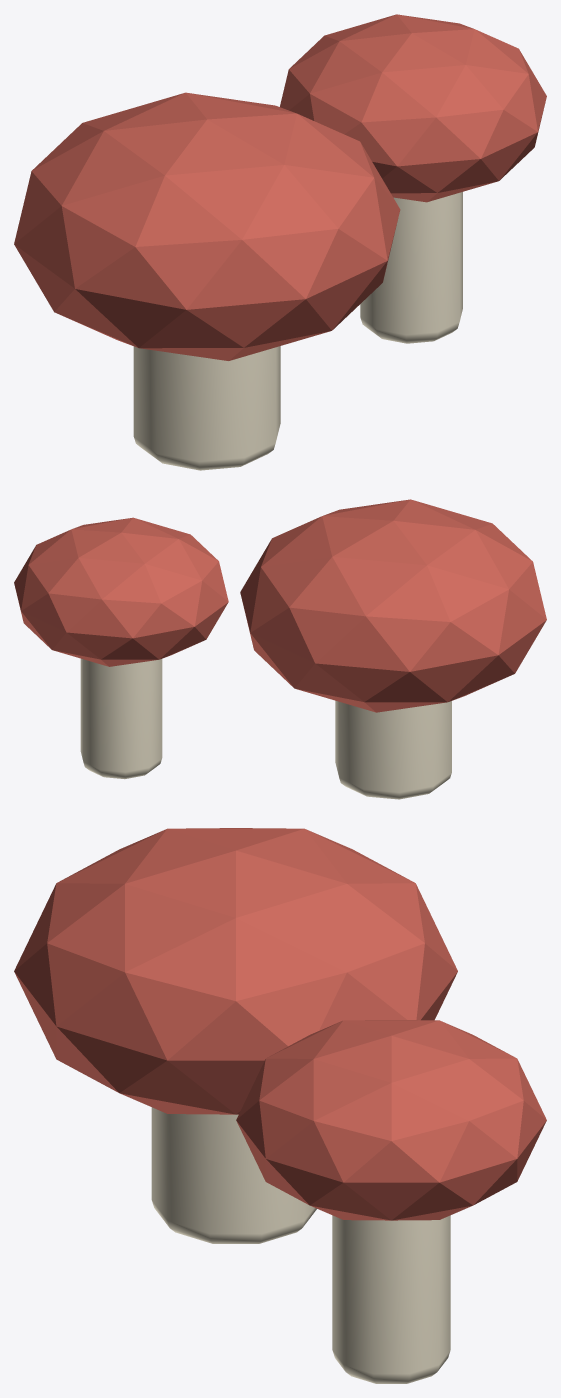
File: prop_mushrooms.glb
3 renders of one model, top to bottom at view 1: azimuth 30°, elevation 25°; view 2: azimuth 150°, elevation 25°; view 3: azimuth 270°, elevation 25°, orthographic. The views are drawn at different scales.
Visible parts, largest first — view 1: msh_c0, msh_c1, msh_s0, msh_s1; view 2: msh_c0, msh_c1, msh_s0, msh_s1; view 3: msh_c0, msh_c1, msh_s1, msh_s0.
Boxes of the visible parts, x1=… form: msh_c0: x1=14, y1=92, x2=400, y2=360; msh_c1: x1=280, y1=14, x2=546, y2=202; msh_s0: x1=133, y1=346, x2=280, y2=470; msh_s1: x1=360, y1=192, x2=462, y2=343; msh_c0: x1=240, y1=499, x2=546, y2=712; msh_c1: x1=14, y1=517, x2=228, y2=666; msh_s0: x1=335, y1=700, x2=451, y2=799; msh_s1: x1=80, y1=658, x2=162, y2=779; msh_c0: x1=14, y1=828, x2=457, y2=1114; msh_c1: x1=236, y1=1020, x2=546, y2=1220; msh_s1: x1=332, y1=1215, x2=450, y2=1383; msh_s0: x1=151, y1=1107, x2=316, y2=1243.
Bounding box in the file's own units: 0.3217 × 0.1816 × 0.24.
